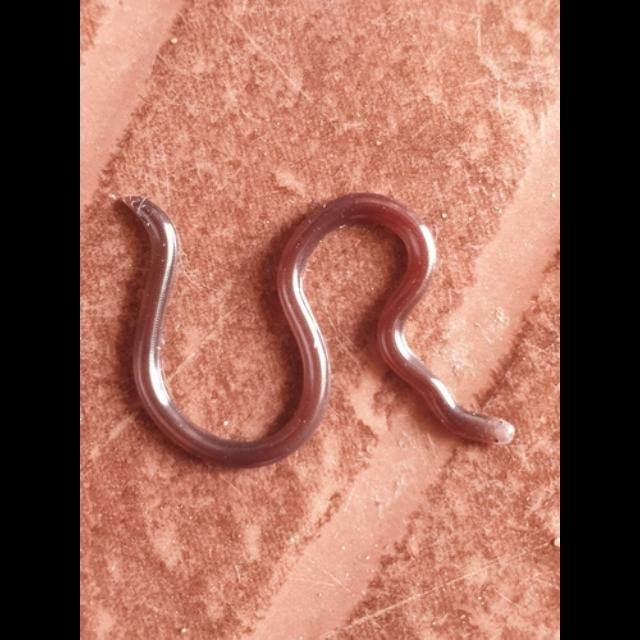snake: (114, 184, 516, 458)
